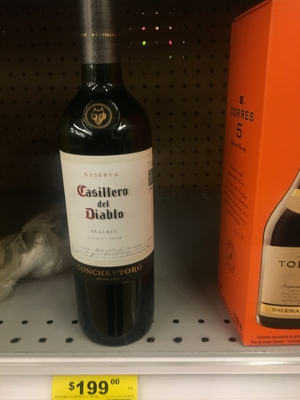casillero del diablo malbec: (41, 6, 188, 400)
